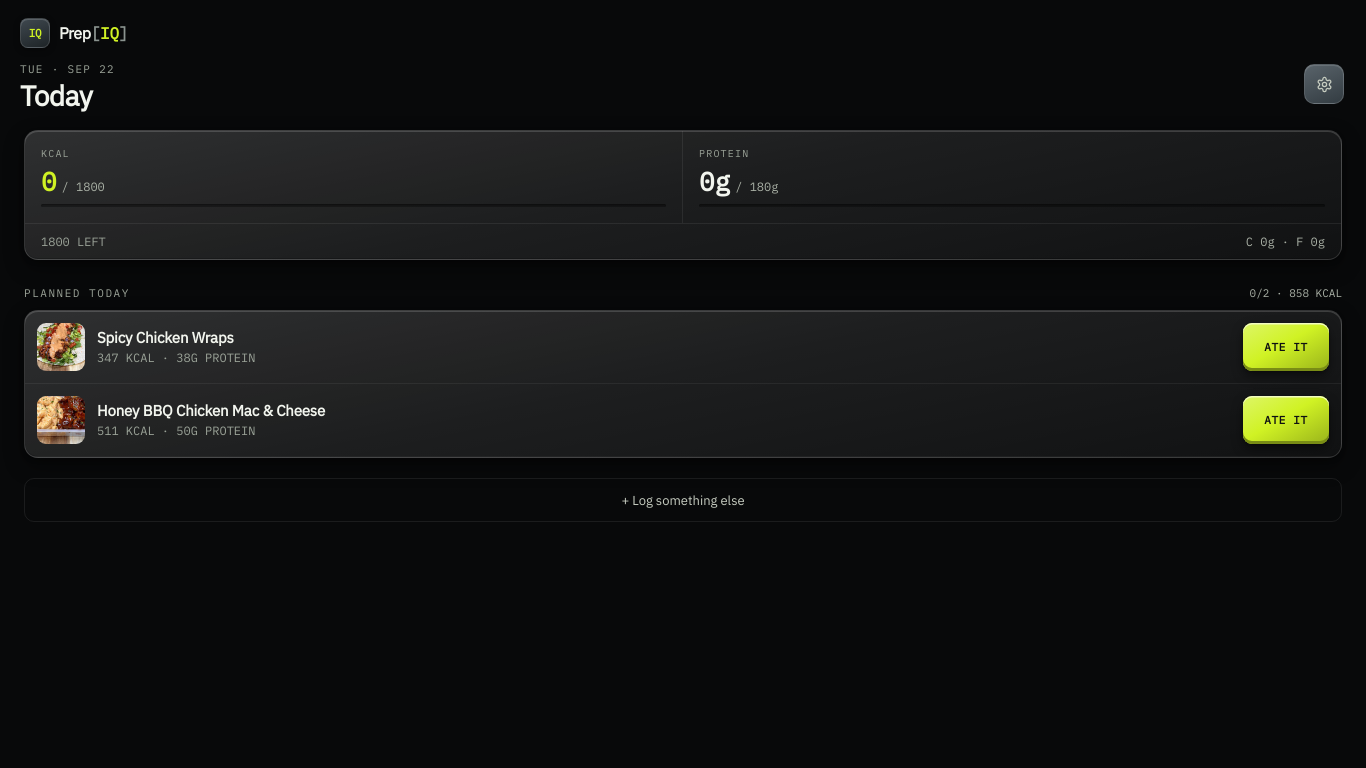
Test: chrome › opens the recipe sheet from a meal row
This screenshot has width=1366, height=768.
Click the button "Spicy Chicken Wraps 347 KCAL · 38G PROTEIN" at (61, 347), box [25,311,1235,383]
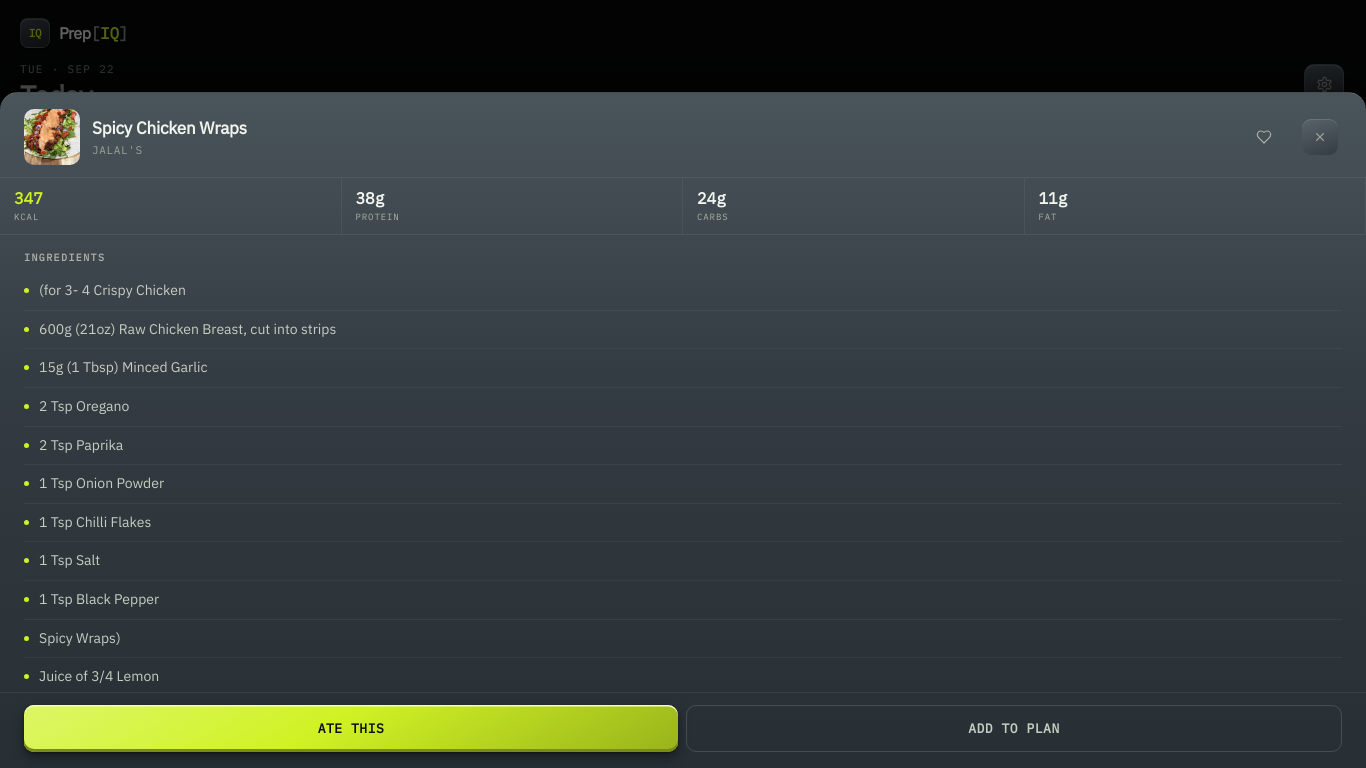
expect the dialog is shown: met
expect the dialog shows "INGREDIENTS": met, box [24,251,105,264]
